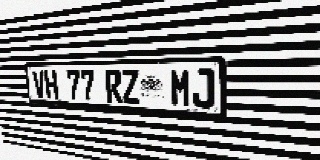7: (80, 70, 96, 102), (66, 70, 82, 101)
H: (44, 70, 59, 99)
J: (192, 68, 215, 109)
M: (170, 69, 192, 107)
R: (105, 70, 123, 103)
V: (32, 70, 47, 99)
Z: (121, 69, 140, 104)
